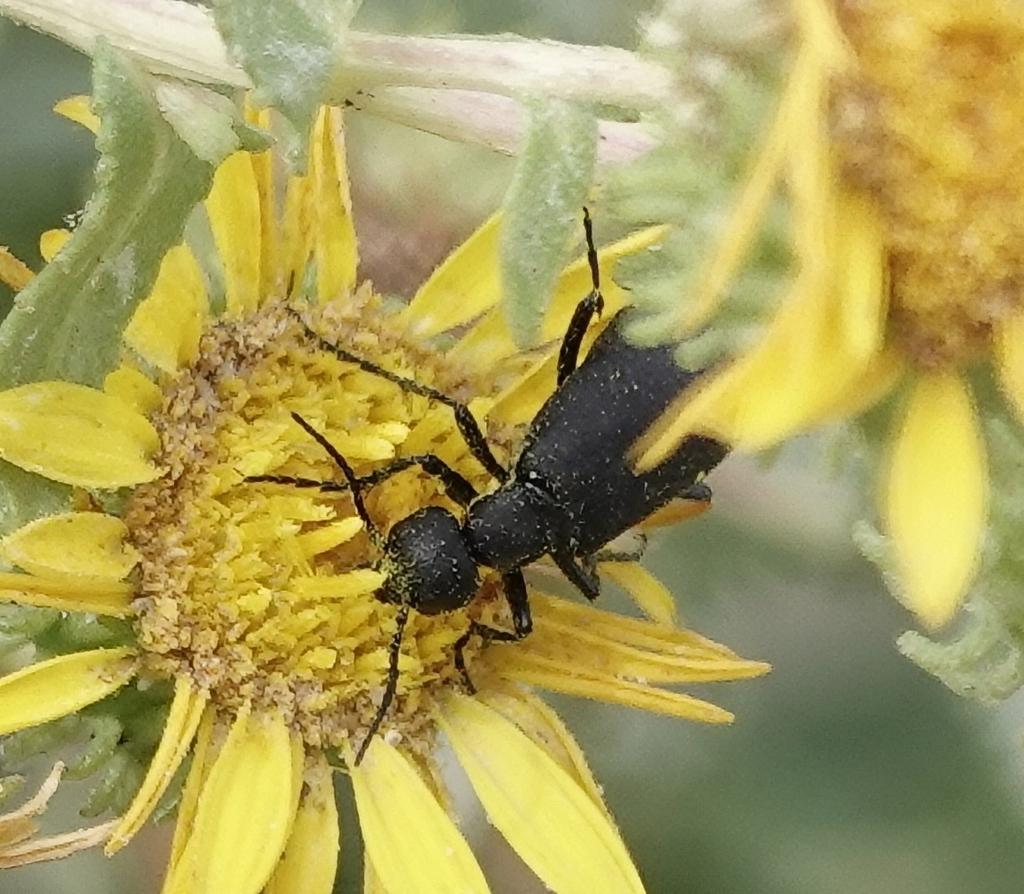blister_beetle: (226, 208, 827, 801)
